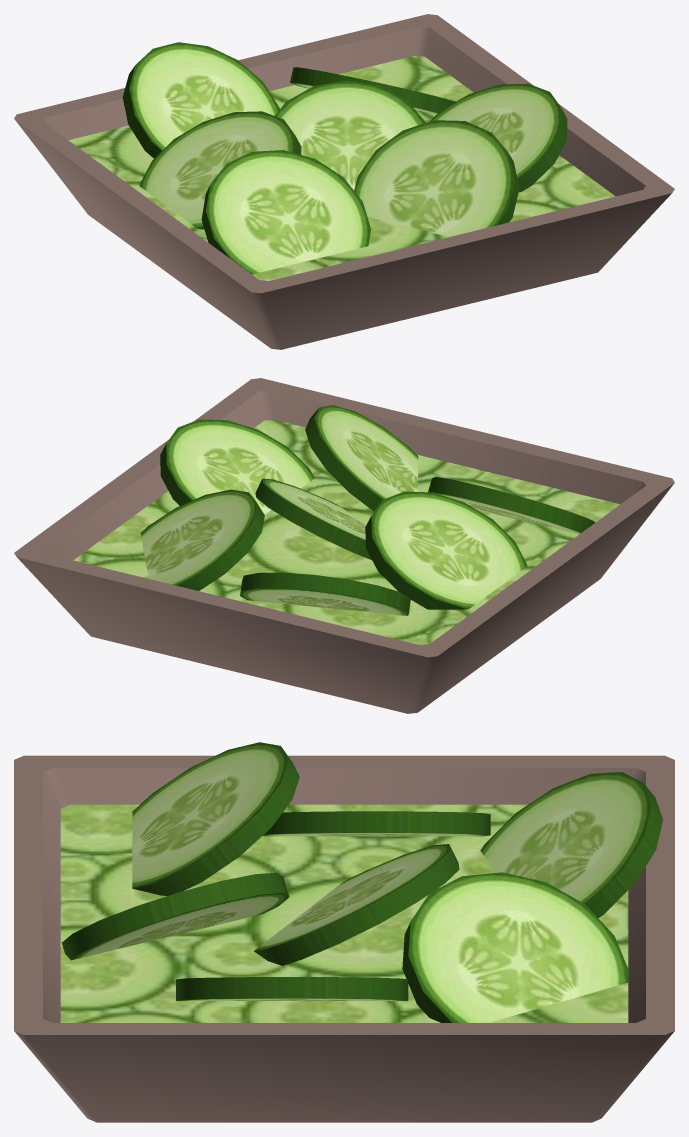
Rendered from CucumberDisplay.glb.
The picture shows the model from 3 angles, top to bottom: view 1: azimuth 30°, elevation 25°; view 2: azimuth 150°, elevation 25°; view 3: azimuth 270°, elevation 25°; orthographic projection. The views are drawn at different scales.
Visible parts, largest first — view 1: CucumberDisplay; view 2: CucumberDisplay; view 3: CucumberDisplay.
Boxes of the visible parts, x1,y1,x2,y2 form: CucumberDisplay: [14, 14, 674, 349]; CucumberDisplay: [14, 378, 674, 713]; CucumberDisplay: [14, 742, 674, 1122].
Size of what is drawn, in the model's own units: 0.8327 by 0.2544 by 0.8327.
2 materials, 2 textured.
